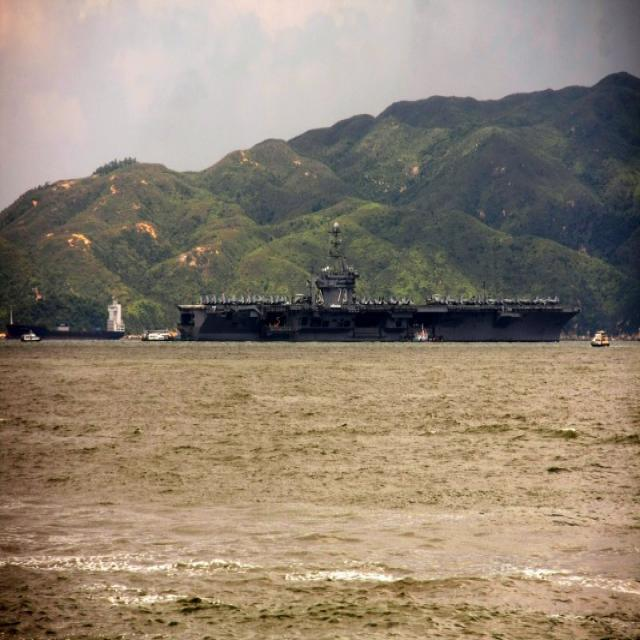Portanaves: (168, 217, 588, 347)
